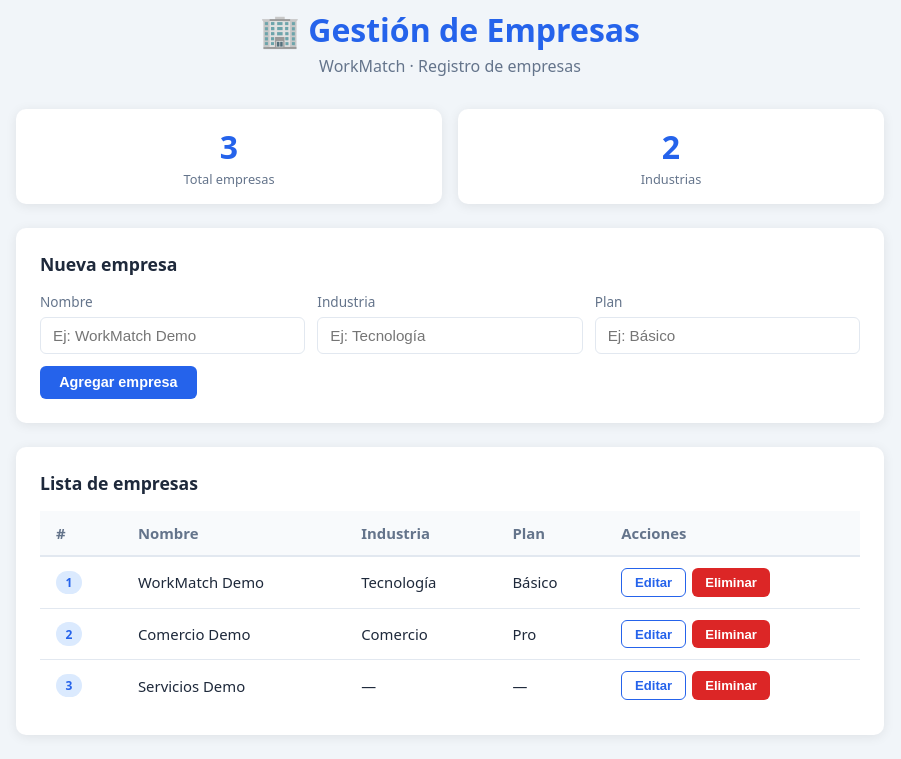
cancela la edición
Expected: the text "WorkMatch Demo" is shown, [122,556,345,608]
Click the button titled "Editar" in the row of "WorkMatch Demo".
click(654, 582)  # box [621,568,686,597]
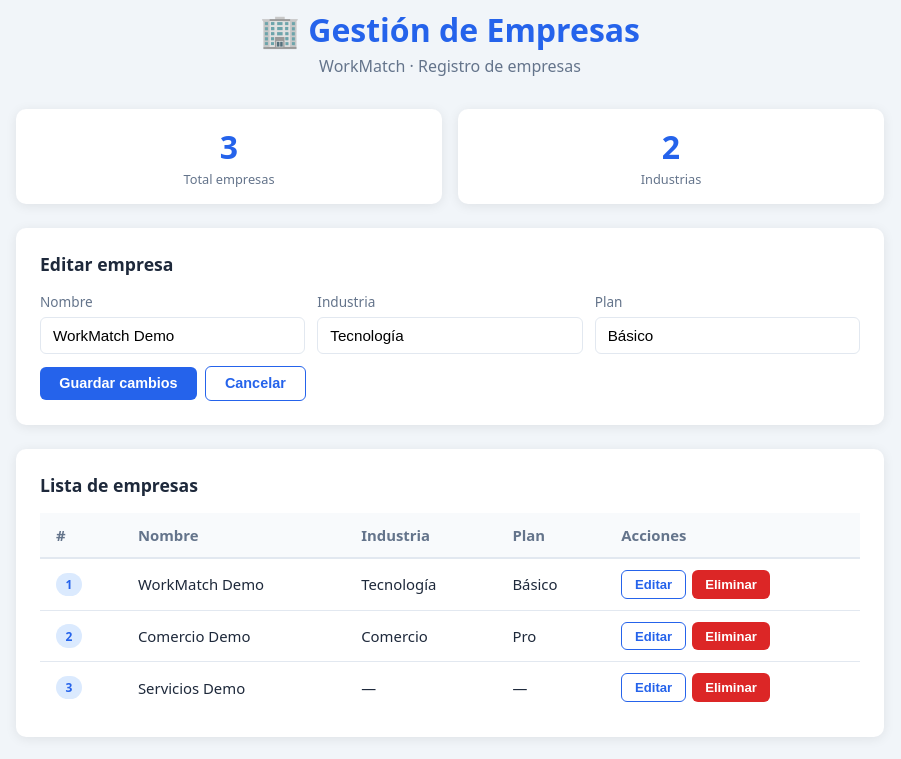
Click the button "Cancelar".
click(255, 383)  # box [205,366,306,401]
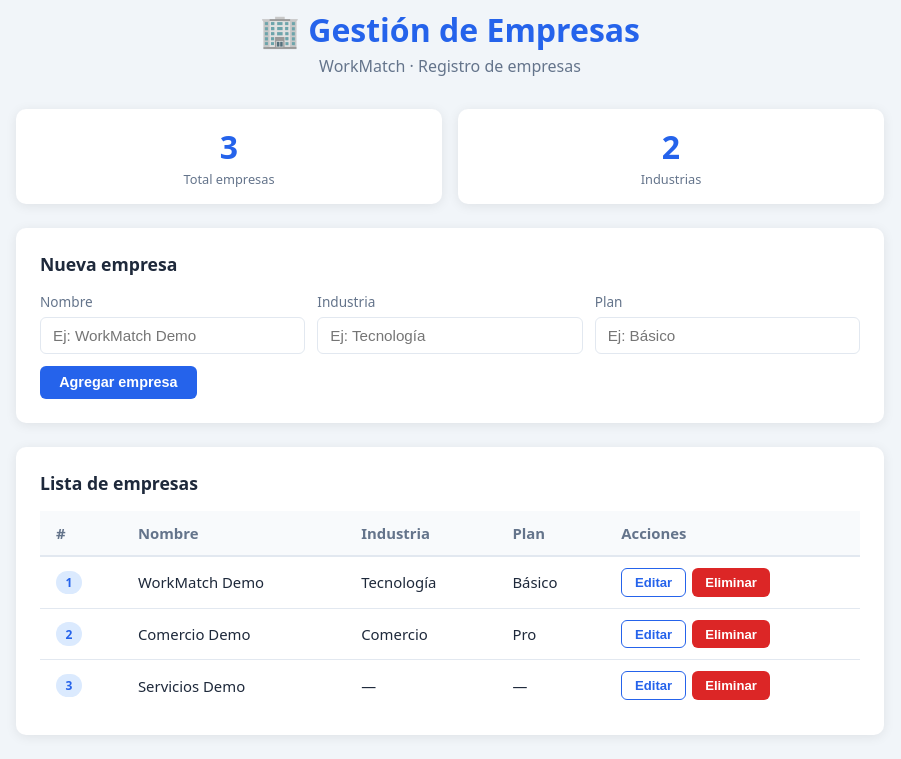
Expected: the text "Nueva empresa" is shown, [40,252,177,276]
